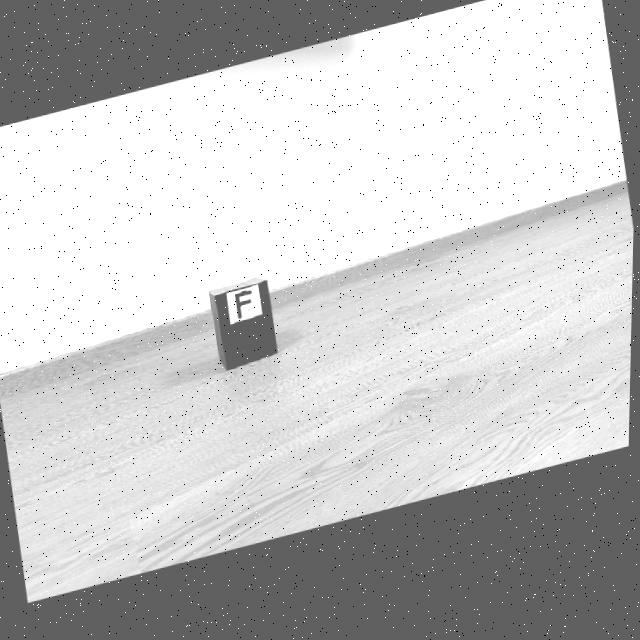F: (236, 296, 254, 324)
